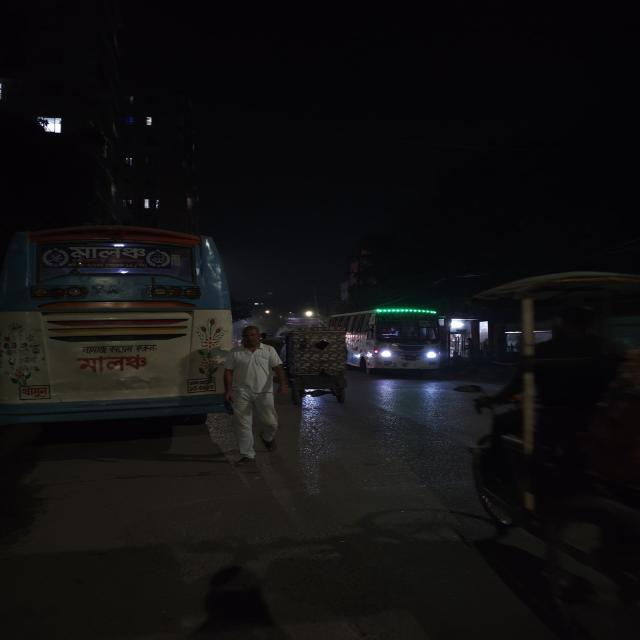bus: (0, 222, 234, 432), (0, 221, 234, 429), (332, 308, 453, 377)
pedestrian: (208, 323, 292, 465)
rickshaw: (280, 327, 352, 407)
